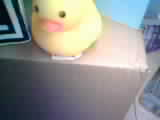duck: (26, 4, 105, 55)
